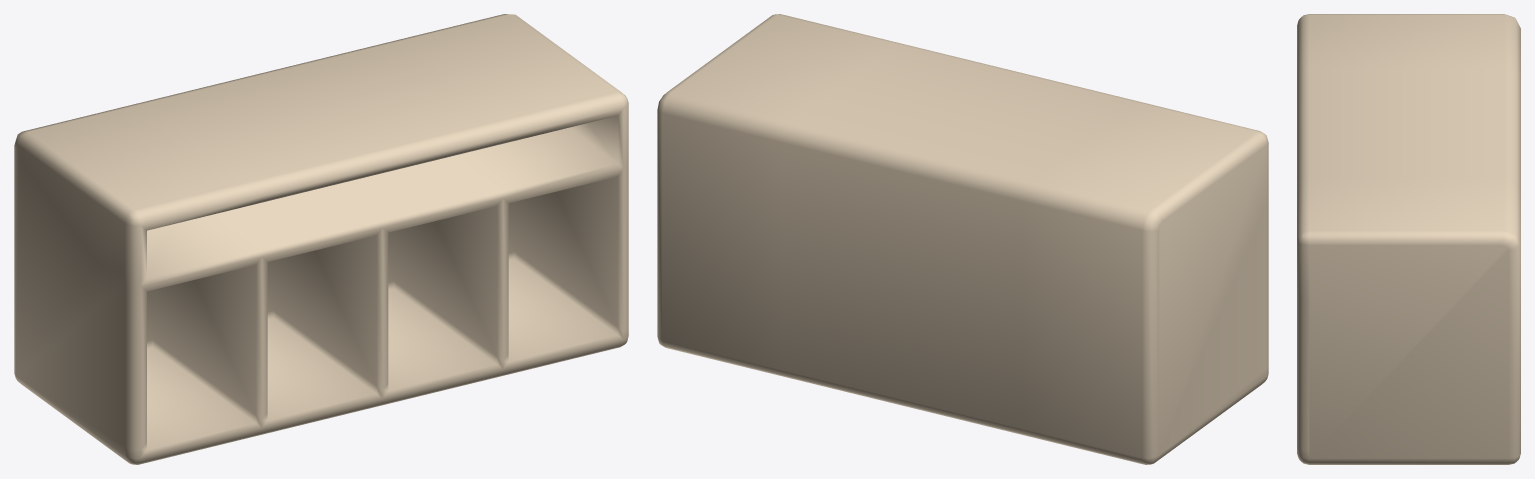
File: Checkout_counter.fbx
3 renders of one model, left to right at view 1: azimuth 30°, elevation 25°; view 2: azimuth 150°, elevation 25°; view 3: azimuth 270°, elevation 25°, orthographic. The views are drawn at different scales.
Visible parts, largest first — view 1: Checkout_counter; view 2: Checkout_counter; view 3: Checkout_counter.
Boxes of the visible parts, <box> form: Checkout_counter: <box>14,14,628,464</box>; Checkout_counter: <box>657,14,1268,464</box>; Checkout_counter: <box>1297,14,1520,464</box>.
Size of the model in its own units: 145 by 70 by 60.84.
